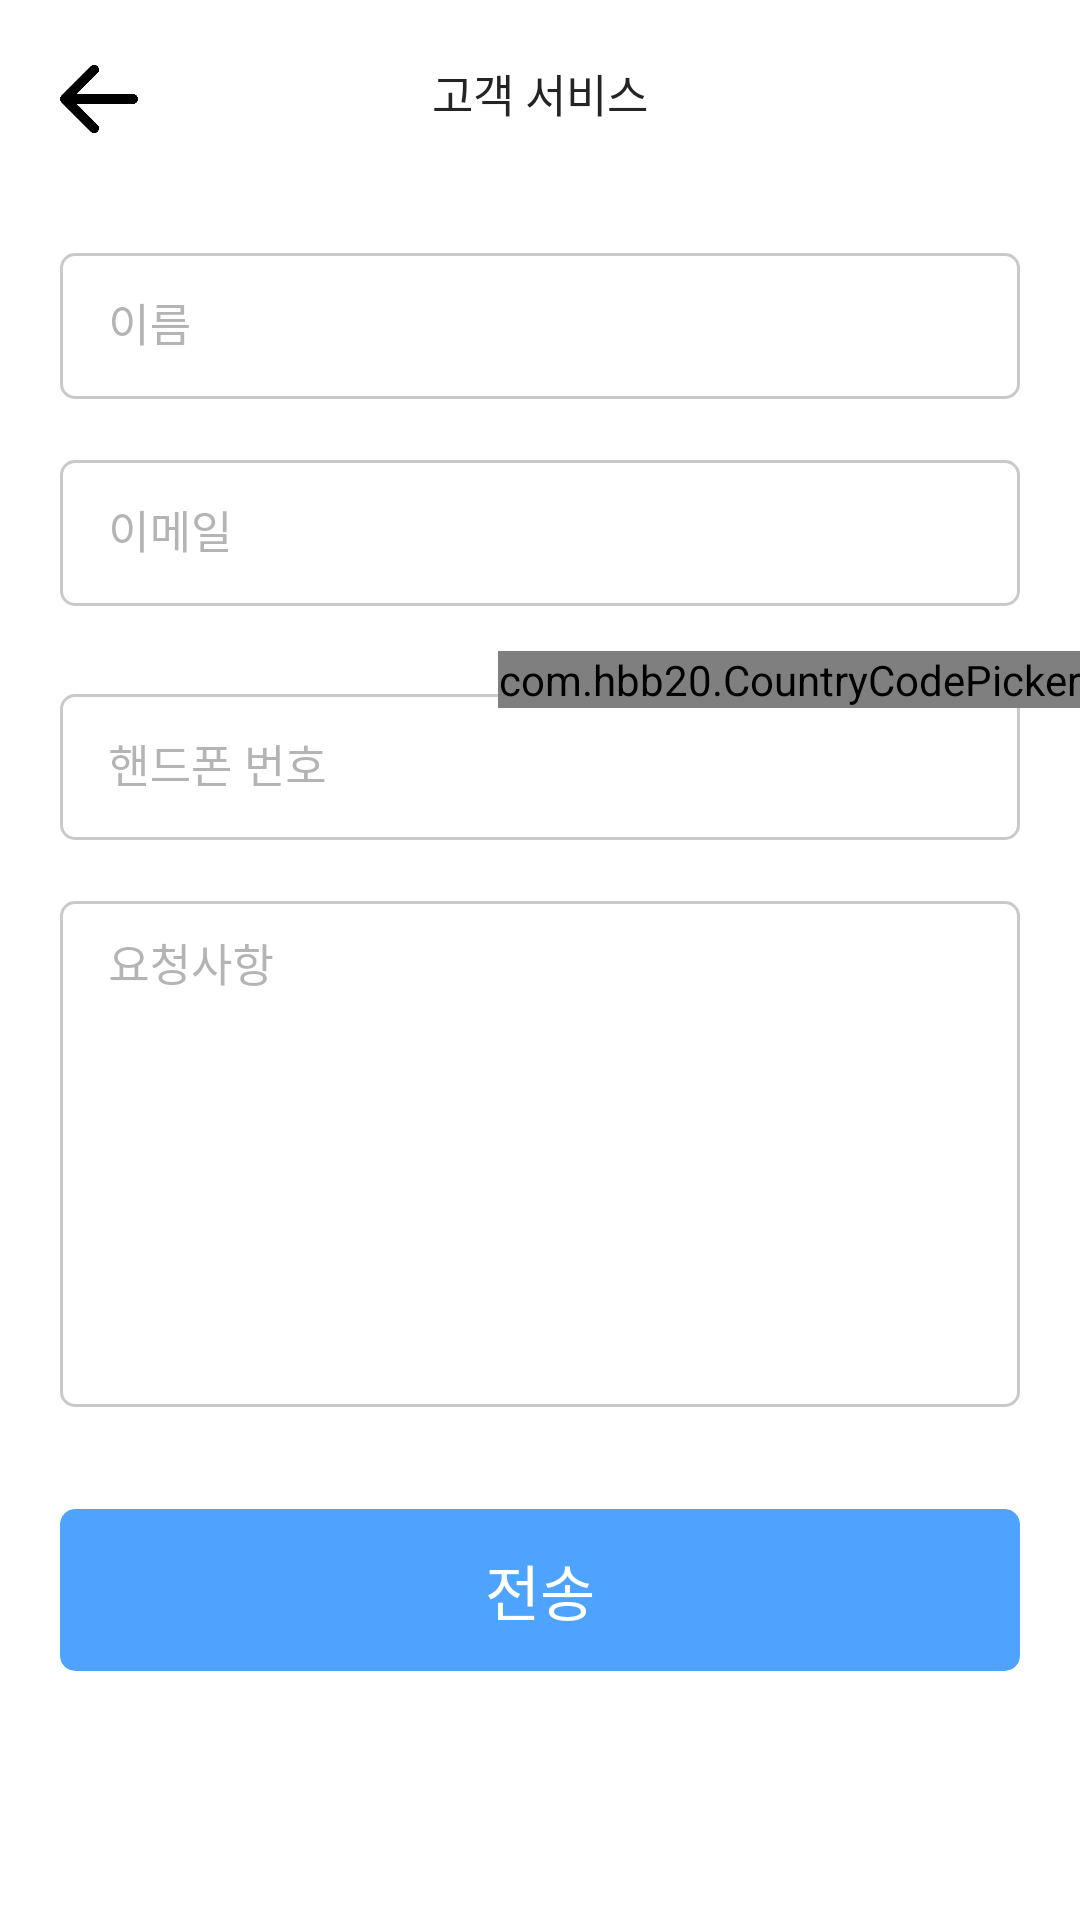

Named icons in this screenshot (1080px×1920px) and their bounding boxes, (x1, y1, x2, y2):
back: (60, 65, 138, 133)
